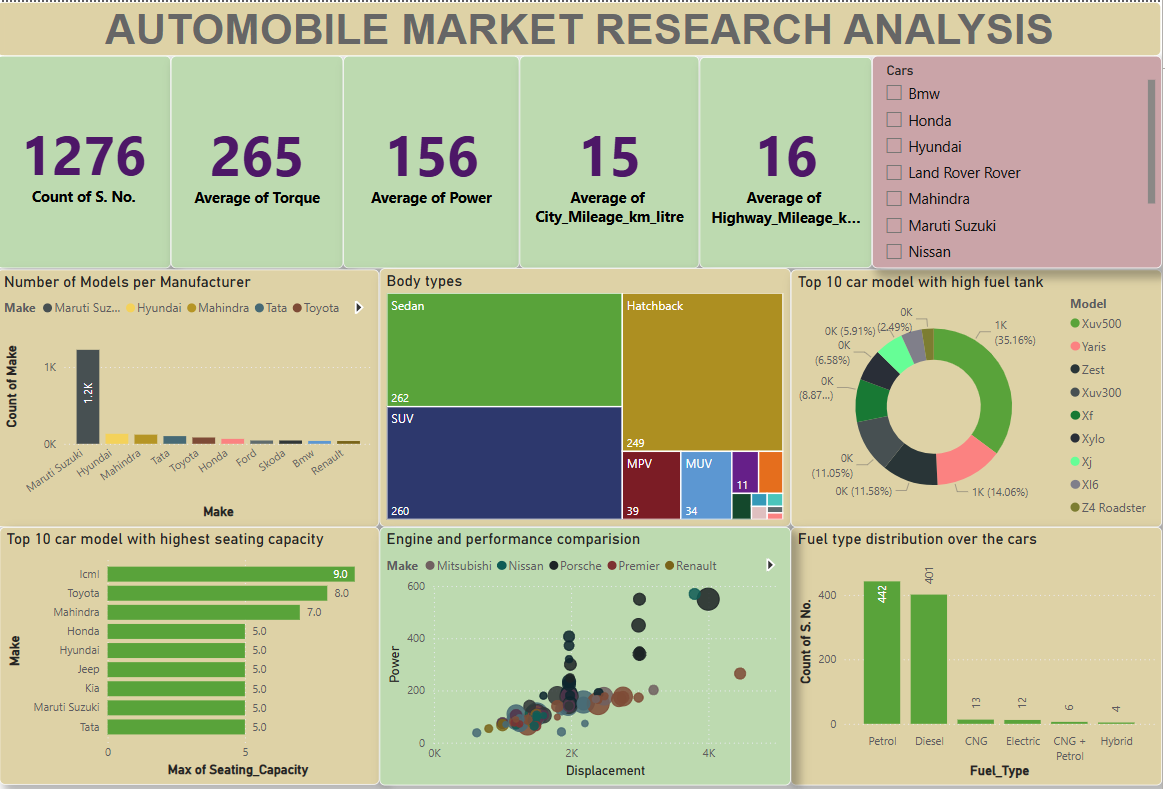

This screenshot's page, from the dashboard's own definition file:
{"tool":"powerbi","page":{"name":"Page 1","canvas":[1280,869],"ordinal":0},"visuals":[{"type":"card","fields":{"Values":["CountNonNull(cars_ds_final.S. No.)"]},"box":[0,59.1,190.9,233.5],"z":0},{"type":"card","fields":{"Values":["Avg(cars_ds_final.Torque)"]},"box":[190.9,59.1,189.6,233.5],"z":1000},{"type":"card","fields":{"Values":["Avg(cars_ds_final.Power)"]},"box":[380.5,59.1,193.7,233.5],"z":2000},{"type":"card","fields":{"Values":["Avg(cars_ds_final.City_Mileage_km_litre)"]},"box":[574.2,59.1,197.8,233.5],"z":3000},{"type":"card","fields":{"Values":["Avg(cars_ds_final.Highway_Mileage_km_litre)"]},"box":[772,60.4,189.6,232.2],"z":4000},{"type":"columnChart","title":"Number of Models per Manufacturer","fields":{"Series":["cars_ds_final.Make"],"Category":["cars_ds_final.Make"],"Y":["CountNonNull(cars_ds_final.Make)"]},"box":[0,294,420.3,283],"z":5000},{"type":"treemap","title":"Body types","fields":{"Group":["cars_ds_final.Body_Type"],"Values":["CountNonNull(cars_ds_final.S. No.)"]},"box":[420.3,292.6,451.9,284.4],"z":6000},{"type":"donutChart","title":"Top 10 car model with high fuel tank","fields":{"Category":["cars_ds_final.Model"],"Y":["Sum(cars_ds_final.Fuel_Tank_Capacity_litre)"]},"box":[872.3,294,408,283],"z":7000},{"type":"clusteredBarChart","title":"Top 10 car model with highest seating capacity","fields":{"Y":["Max(cars_ds_final.Seating_Capacity)"],"Category":["cars_ds_final.Make"]},"box":[2.7,576.9,417.6,283],"z":8000},{"type":"slicer","title":"Brands with highest fuel tank capacity","fields":{"Values":["cars_ds_final.Make"]},"box":[961.6,59.1,318.7,233.5],"z":9000},{"type":"columnChart","title":"Fuel type distribution over the cars ","fields":{"Category":["cars_ds_final.Fuel_Type"],"Y":["CountNonNull(cars_ds_final.S. No.)"]},"box":[872.3,576.9,408,284.4],"z":10000},{"type":"scatterChart","title":"Engine and performance comparision","fields":{"X":["cars_ds_final.Displacement"],"Y":["cars_ds_final.Power"],"Series":["cars_ds_final.Make"],"Size":["Sum(cars_ds_final.Torque)"]},"box":[420.3,576.9,451.9,284.4],"z":11000},{"type":"textbox","title":"AUTOMOBILE MARKET RESEARCH ANALYSIS","box":[0,0,1278.9,59.1],"z":12000}]}

Visuals, with their boxes in screenshot pixels (x1, y1, x2, y2), scaled from the page's 1280x869 canvas onto the 1165x789 screenshot:
card - CountNonNull(cars_ds_final.S. No.): <box>0,54,174,266</box>
card - Avg(cars_ds_final.Torque): <box>174,54,346,266</box>
card - Avg(cars_ds_final.Power): <box>346,54,523,266</box>
card - Avg(cars_ds_final.City_Mileage_km_litre): <box>523,54,703,266</box>
card - Avg(cars_ds_final.Highway_Mileage_km_litre): <box>703,55,875,266</box>
"Number of Models per Manufacturer" columnChart: <box>0,267,383,524</box>
"Body types" treemap: <box>383,266,794,524</box>
"Top 10 car model with high fuel tank" donutChart: <box>794,267,1164,524</box>
"Top 10 car model with highest seating capacity" clusteredBarChart: <box>2,524,383,781</box>
"Brands with highest fuel tank capacity" slicer: <box>875,54,1164,266</box>
"Fuel type distribution over the cars " columnChart: <box>794,524,1164,782</box>
"Engine and performance comparision" scatterChart: <box>383,524,794,782</box>
"AUTOMOBILE MARKET RESEARCH ANALYSIS" textbox: <box>0,0,1164,54</box>
